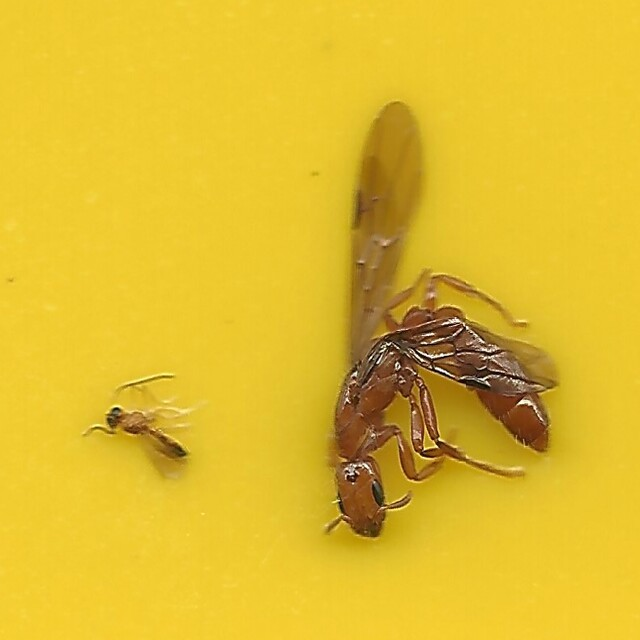Hymenoptera: (326, 99, 559, 541), (81, 375, 190, 480)
